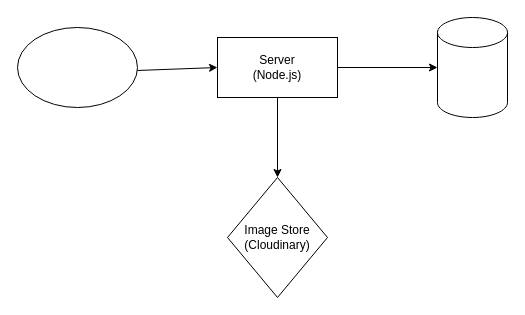
The diagram is 525 pixels wide and 315 high, and some of its shapes have lost their labels. Here are the shapes that lost their labels. From the top down, the centre of each, then its label:
At [77,67]: "Client (React)".
At [472,67]: "DB (MongoDB)".
